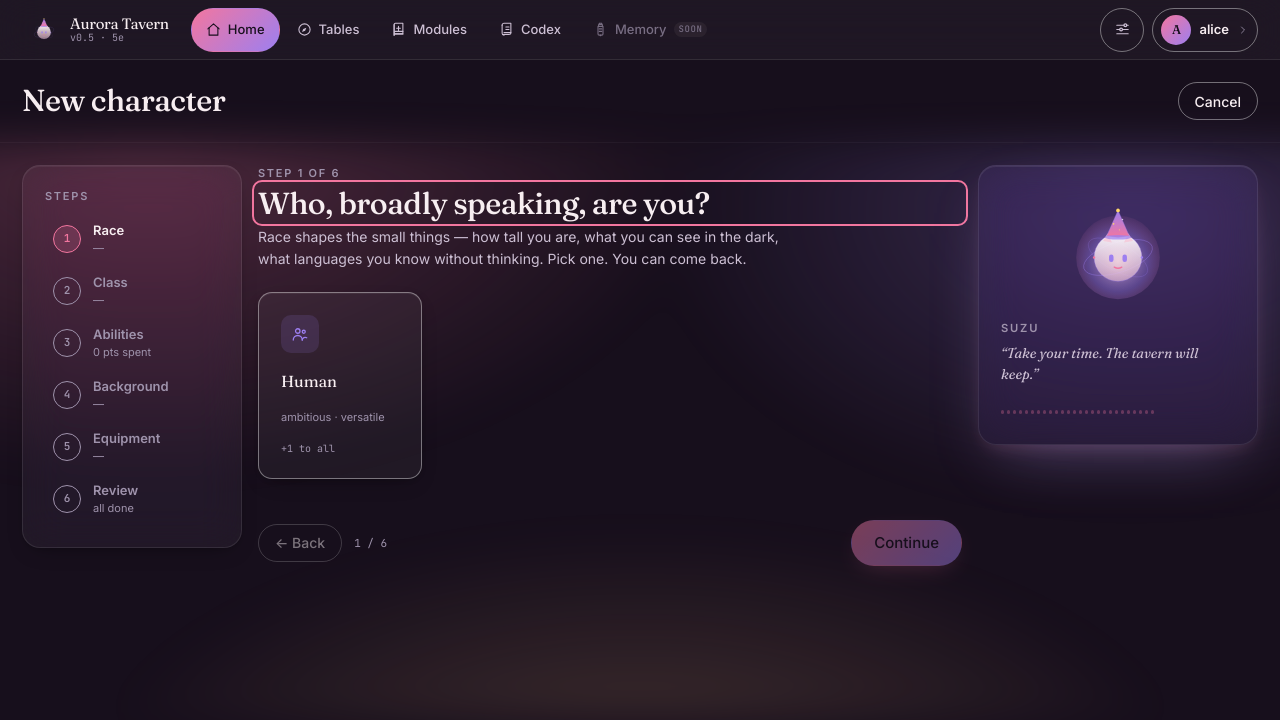
Test: Wizard spells-at-creation slice (T4/DDX-11t) › shows NO Spells step for a non-caster (fighter) — 6 steps total (Equipment applies to every class)
Click the radio button labelled "Human ambitious · versatile +1 to all" at (340, 386), box [258, 292, 422, 479]
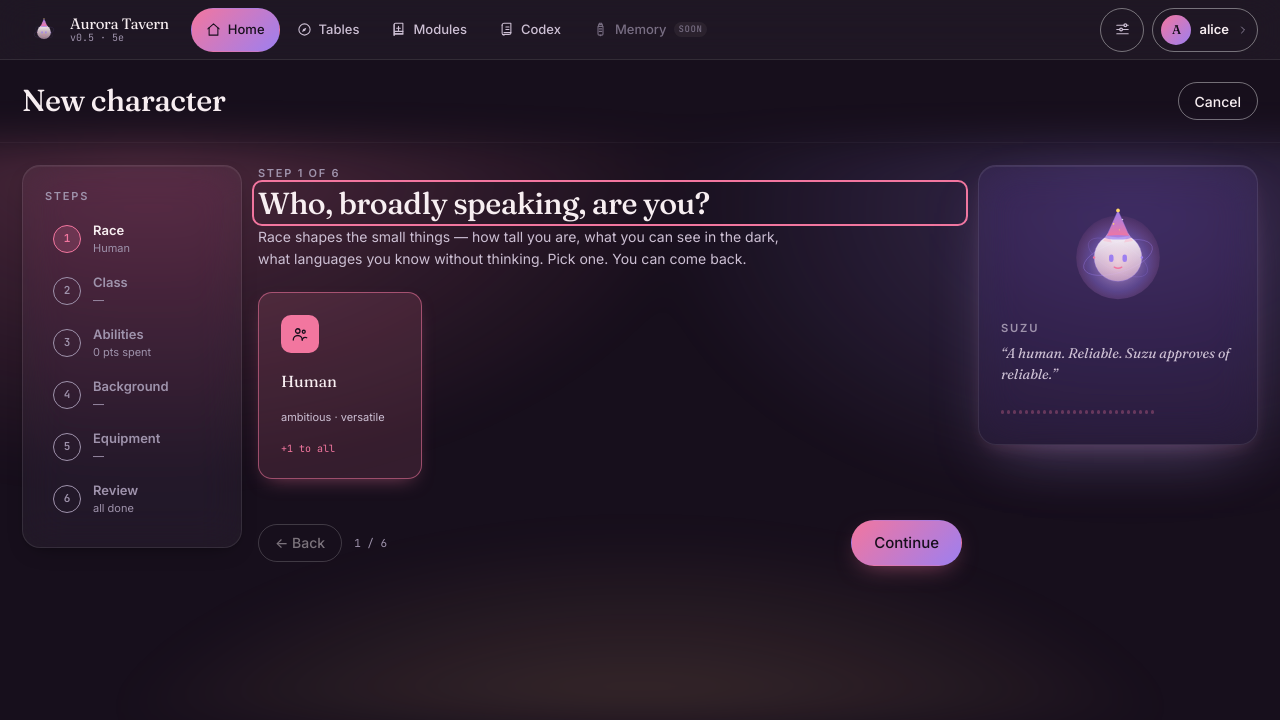
Click the button "Continue" at (907, 543), box [851, 520, 962, 566]
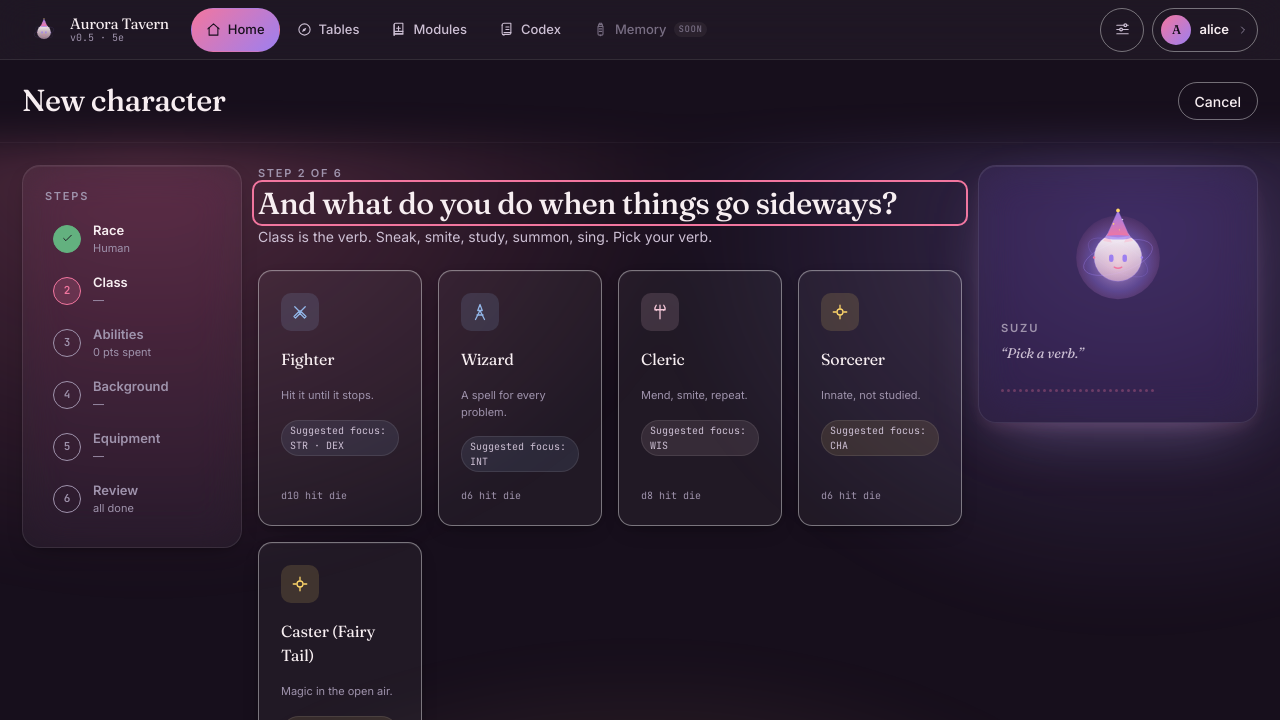
Click the radio button labelled "Fighter" at (340, 398), box [258, 270, 422, 526]
(page scrolled)
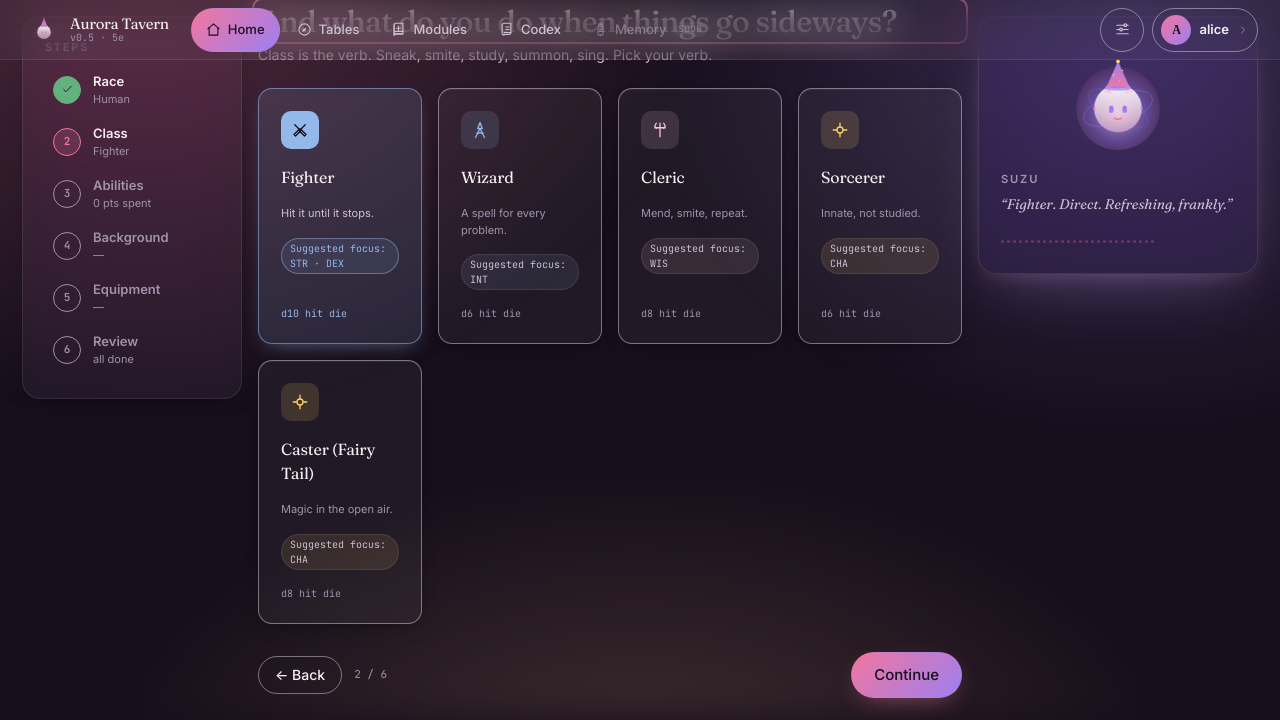
Click the button "Continue" at (907, 675), box [851, 652, 962, 698]
(page scrolled)
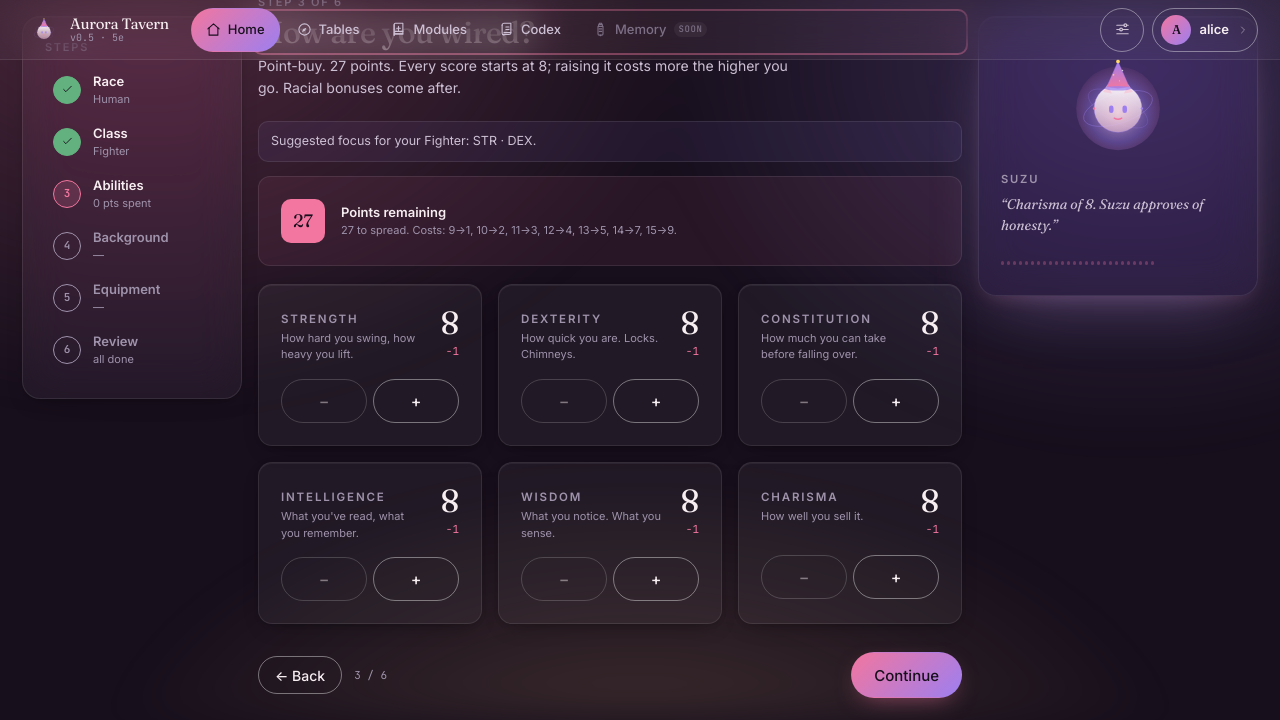
Result: the text "3 / 6" is shown at [354, 667, 387, 683]
